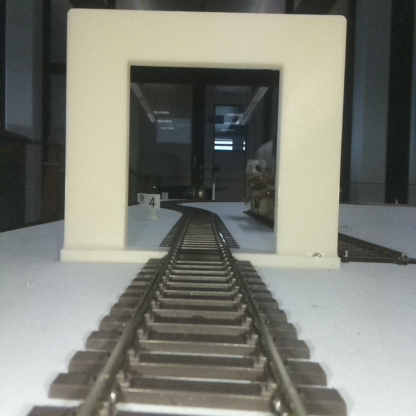white-stop-4: (144, 193, 160, 219)
